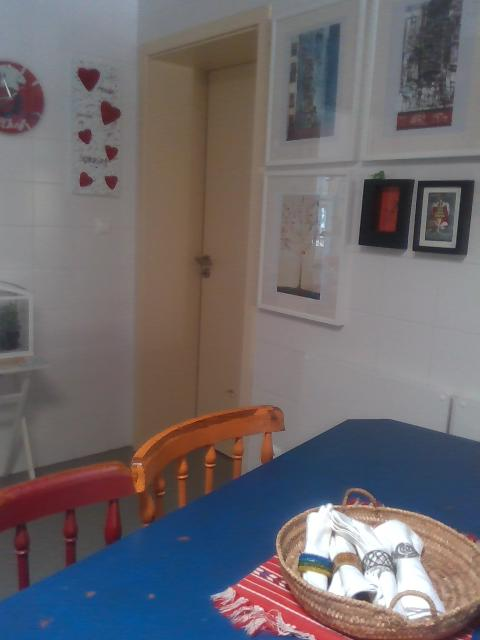door: (189, 63, 254, 455)
